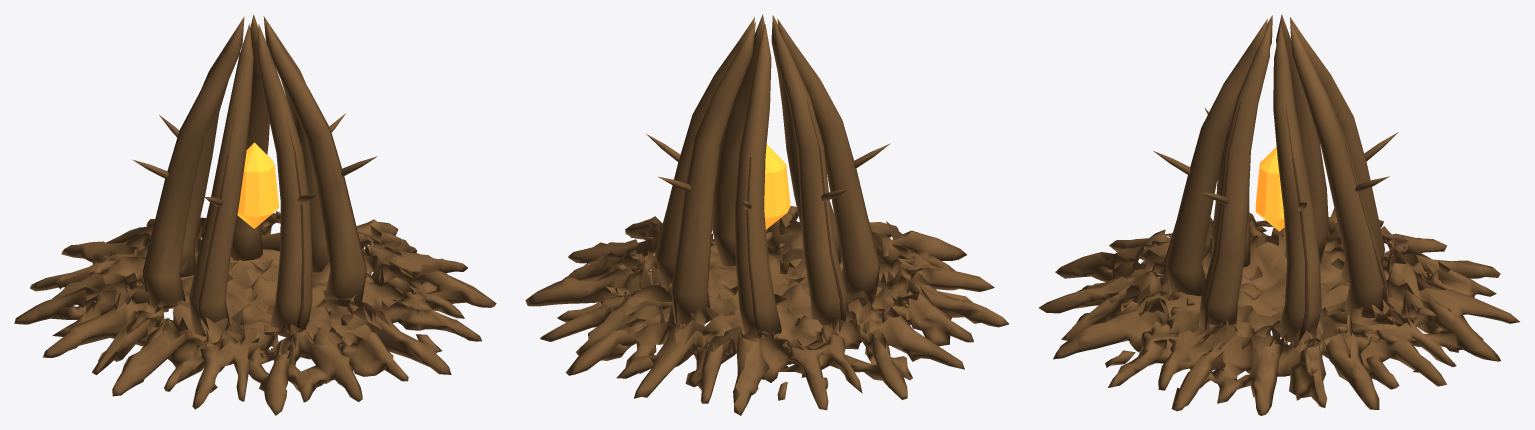
The model's file is fracture.glb.
The picture shows the model from 3 angles, left to right: view 1: azimuth 30°, elevation 25°; view 2: azimuth 150°, elevation 25°; view 3: azimuth 270°, elevation 25°; orthographic projection.
Parts seen in each view (by area): view 1: Rib_4, Rib_5, Rib_3, Rib_6, Rib_2, Rib_0, Rib_1, Core_0; view 2: Rib_2, Rib_1, Rib_3, Rib_4, Rib_0, Rib_6, Rib_5, Core_0; view 3: Rib_6, Rib_5, Rib_0, Rib_1, Rib_2, Rib_3, Rib_4, Core_0.
Boxes of the visible parts, x1,y1,x2,y2 form: Rib_4: (177,23,362,415); Rib_5: (257,24,481,397); Rib_3: (43,21,243,396); Rib_6: (257,20,496,318); Rib_2: (14,17,247,327); Rib_0: (243,16,417,307); Rib_1: (106,14,269,304); Core_0: (237,142,278,228); Rib_2: (734,24,912,415); Rib_1: (565,22,757,413); Rib_3: (774,22,1009,377); Rib_4: (777,18,994,306); Rib_0: (525,17,754,355); Rib_6: (568,14,764,299); Rib_5: (711,15,840,295); Core_0: (764,144,790,229); Rib_6: (1158,23,1319,415); Rib_5: (1039,19,1277,387); Rib_0: (1273,24,1456,409); Rib_1: (1290,21,1519,361); Rib_2: (1279,17,1499,312); Rib_3: (1168,14,1328,310); Rib_4: (1039,15,1281,312); Core_0: (1255,147,1284,231).
Size of the model in its own units: 6.47 by 4.52 by 6.51.
